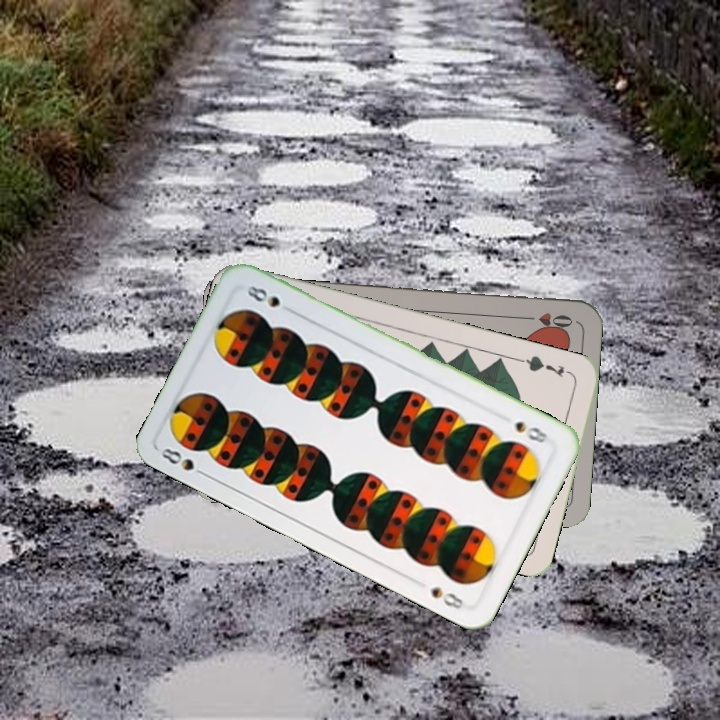G7: (517, 351, 575, 380)
HO: (518, 308, 576, 332)
S8: (157, 443, 211, 480), (511, 417, 556, 446)
